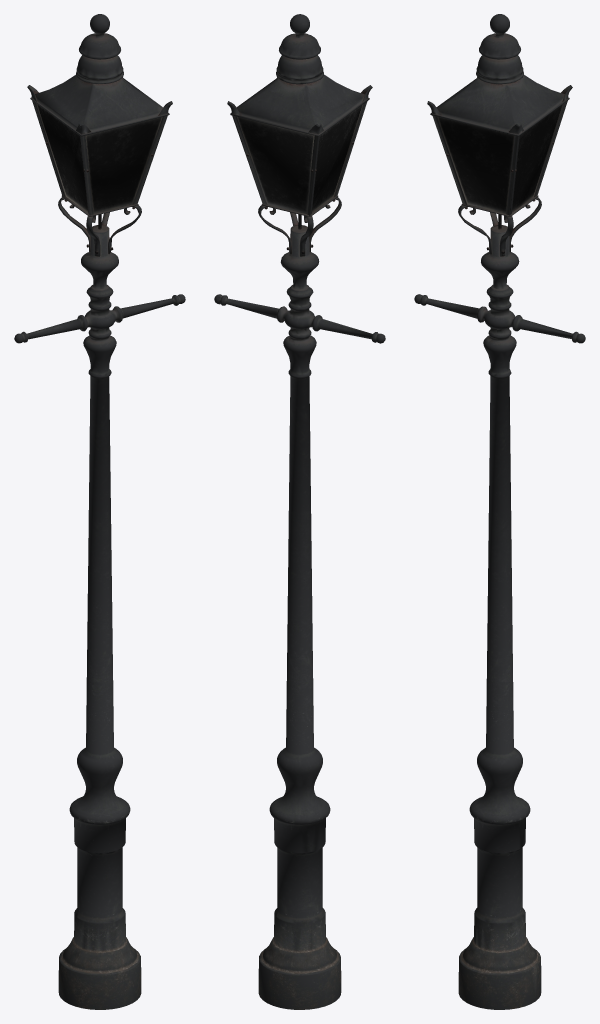
File: street_lamp.glb
3 renders of one model, left to right at view 1: azimuth 30°, elevation 25°; view 2: azimuth 150°, elevation 25°; view 3: azimuth 330°, elevation 25°, orthographic.
Visible parts, largest first — view 1: street_lamp_01; view 2: street_lamp_01; view 3: street_lamp_01.
Boxes of the visible parts, box(x1,y1,x2,y2) form: street_lamp_01: box(14, 14, 185, 1009); street_lamp_01: box(214, 14, 385, 1009); street_lamp_01: box(414, 14, 585, 1009).
Bounding box in the file's own units: 0.7034 × 3.87 × 0.3862.
Materials: 3 (3 with a texture image).
